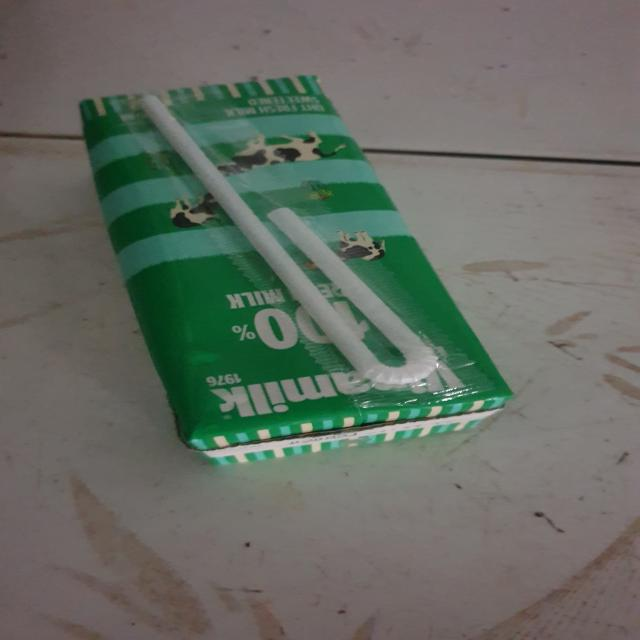Vina: (70, 71, 526, 472)
